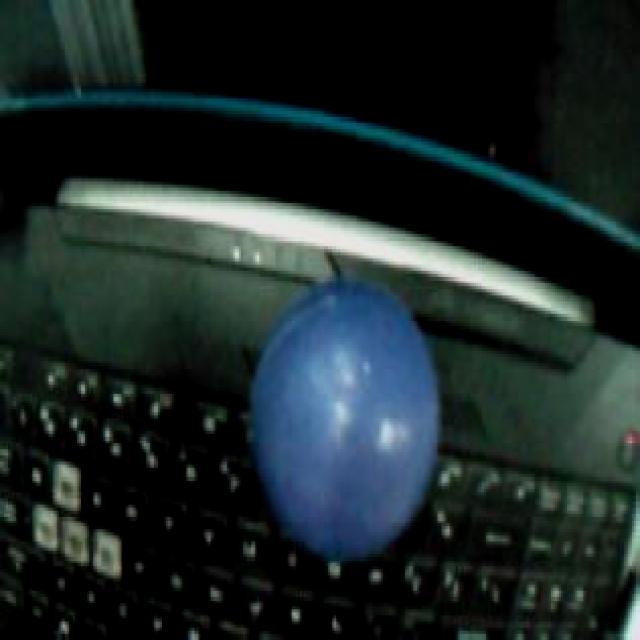BallPurple: (247, 276, 440, 558)
